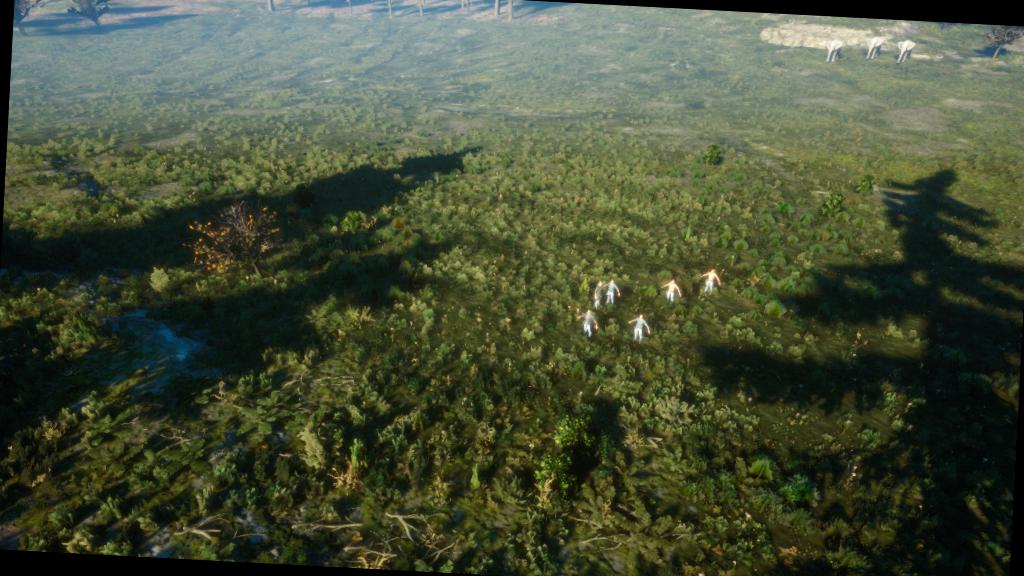elephant: (863, 29, 895, 71), (891, 36, 926, 72), (819, 28, 847, 71)
human: (694, 258, 728, 304), (589, 272, 625, 315), (570, 302, 605, 346), (623, 306, 658, 348), (656, 272, 688, 308)
